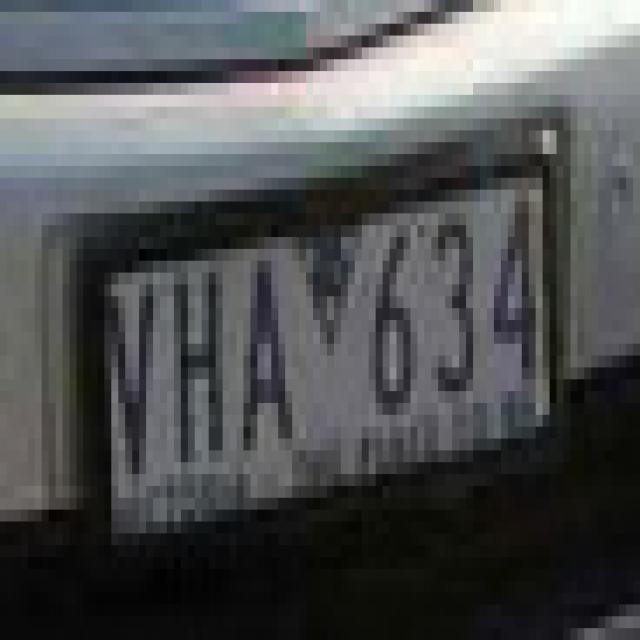3: (431, 200, 484, 434)
4: (488, 181, 540, 409)
6: (361, 214, 426, 454)
A: (238, 235, 298, 486)
H: (168, 264, 227, 494)
V: (99, 268, 164, 489)
